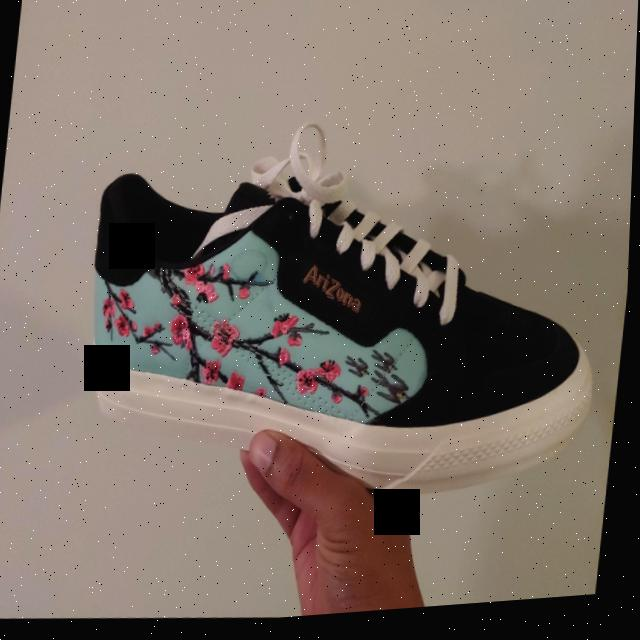shoes: (71, 137, 620, 521)
